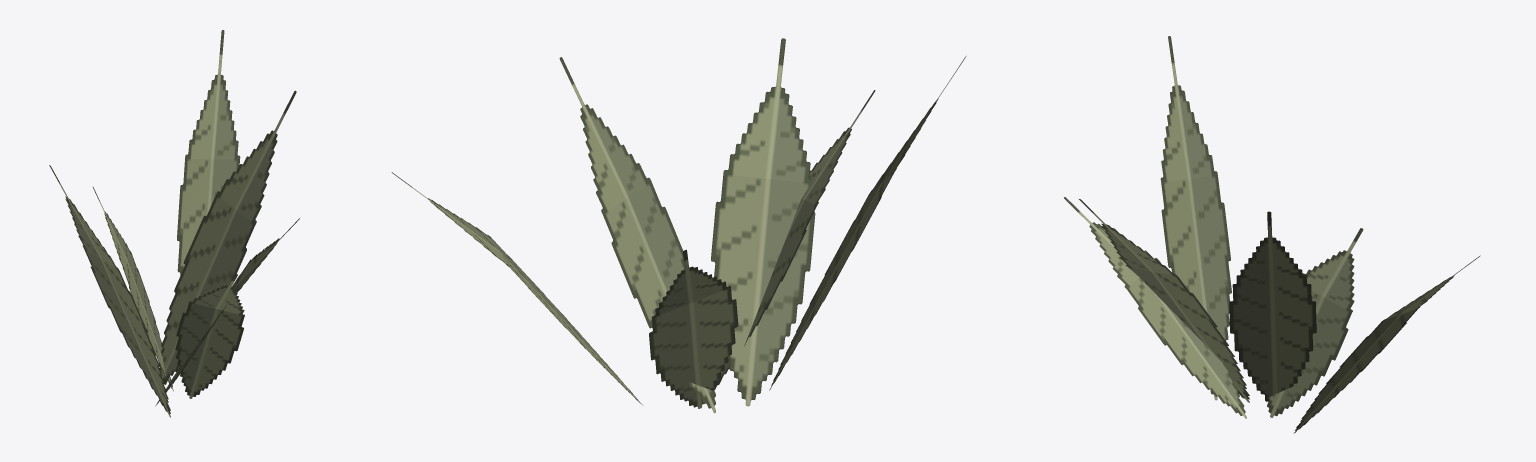
The model's file is P06_Tuft_B.fbx.
3 views of the same model, side by side, from view 1: azimuth 30°, elevation 25°; view 2: azimuth 150°, elevation 25°; view 3: azimuth 270°, elevation 25° (orthographic). The views are drawn at different scales.
Parts seen in each view (by area): view 1: P06_tuft_B; view 2: P06_tuft_B; view 3: P06_tuft_B.
Boxes of the visible parts, x1=… form: P06_tuft_B: x1=49, y1=30, x2=299, y2=417; P06_tuft_B: x1=391, y1=38, x2=966, y2=413; P06_tuft_B: x1=1064, y1=36, x2=1480, y2=433.
Bounding box in the file's own units: 0.3329 × 0.2832 × 0.3855.
